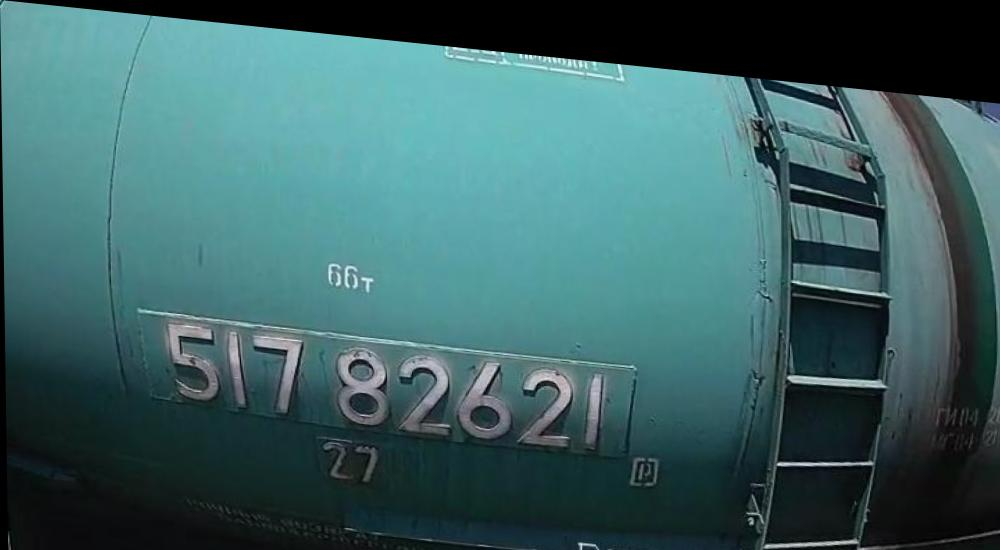Wagon-number: (153, 312, 611, 448)
